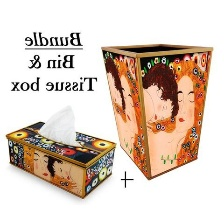tissue: (30, 99, 87, 151)
